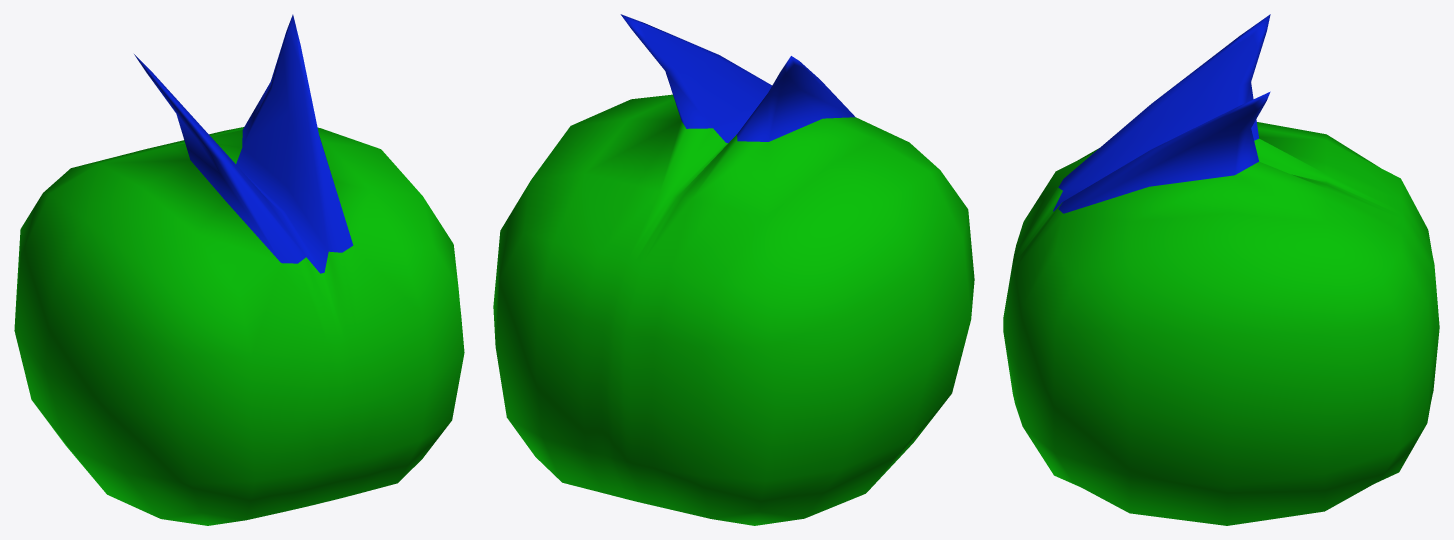
File: Dragon_Piece_Tail.fbx
3 views of the same model, side by side, from view 1: azimuth 30°, elevation 25°; view 2: azimuth 150°, elevation 25°; view 3: azimuth 270°, elevation 25° (orthographic). The views are drawn at different scales.
Parts seen in each view (by area): view 1: Dragon; view 2: Dragon; view 3: Dragon.
Part boxes in pixels (box(x1,y1,x2,y2)): Dragon: box(14, 14, 464, 525); Dragon: box(493, 14, 974, 525); Dragon: box(1003, 14, 1439, 525).
Bounding box in the file's own units: 29.76 × 32.57 × 29.87.
